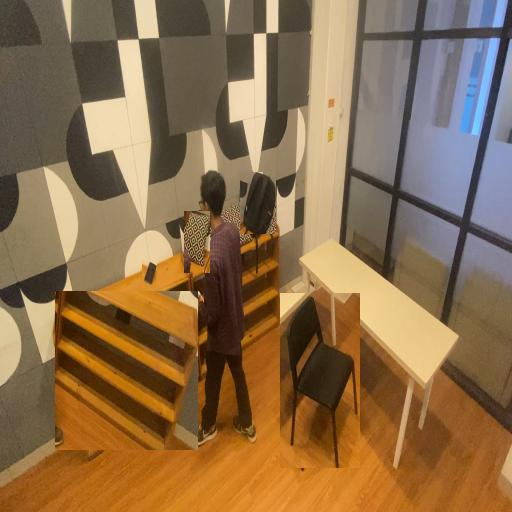bantal: (184, 211, 210, 273), (223, 202, 251, 248)
hp: (142, 260, 157, 288)
kursi: (280, 293, 360, 468)
lemari: (55, 291, 198, 450)
tas ransel: (240, 172, 276, 234)
